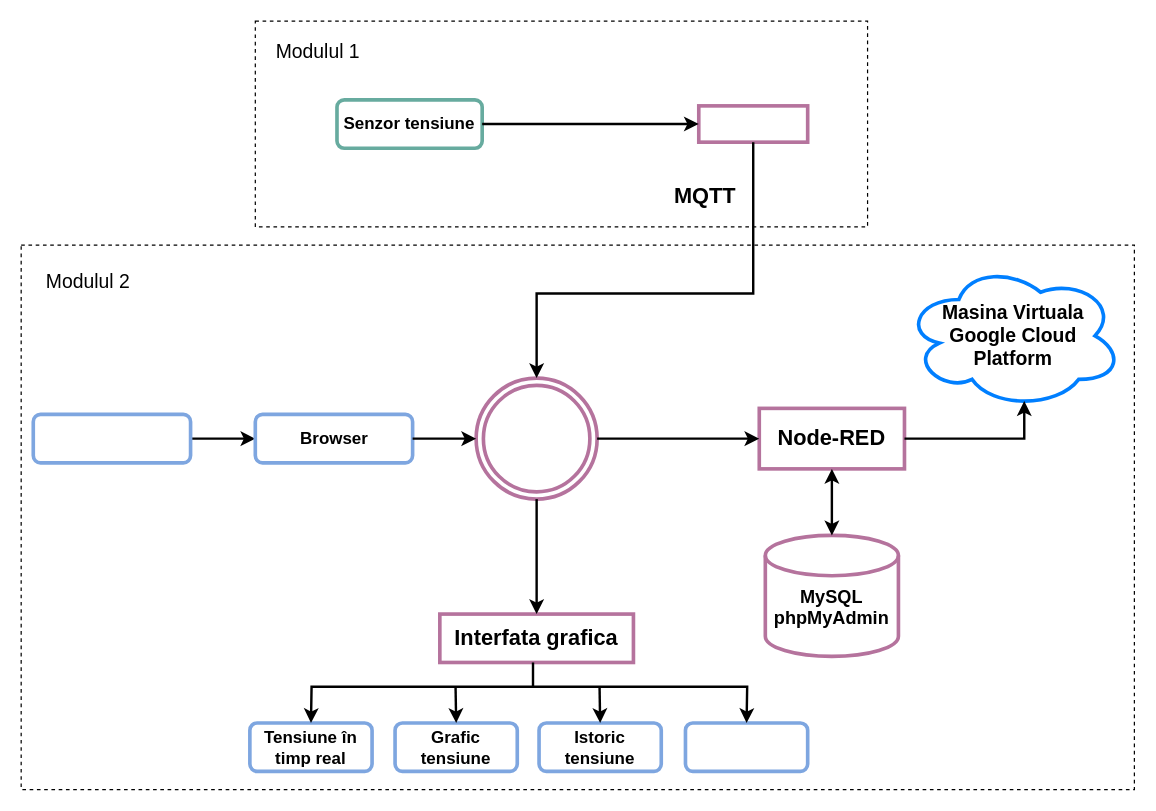
Some shapes in this 1156 by 811 pixel diagram are drawn without their labels. Here are the shapes that lost their labels. From the top down, the centre of each, then its label:
At point 752,123: "Esp32".
At point 111,438: "Dispozitive cu acces la internet".
At point 536,438: "Aplicatia web".
At point 746,747: "Notificare email".
